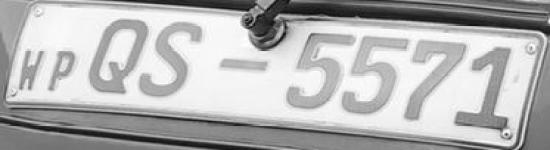-: (214, 53, 274, 79)
1: (441, 38, 530, 146)
5: (270, 23, 364, 122), (326, 28, 417, 126)
7: (389, 31, 479, 129)
P: (48, 48, 78, 92)
Q: (78, 8, 156, 98)
S: (125, 16, 215, 107)
W: (18, 46, 44, 90)
